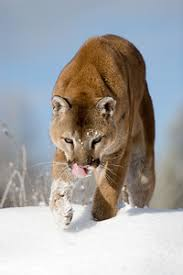Mountain Lion: (50, 88, 158, 214)
